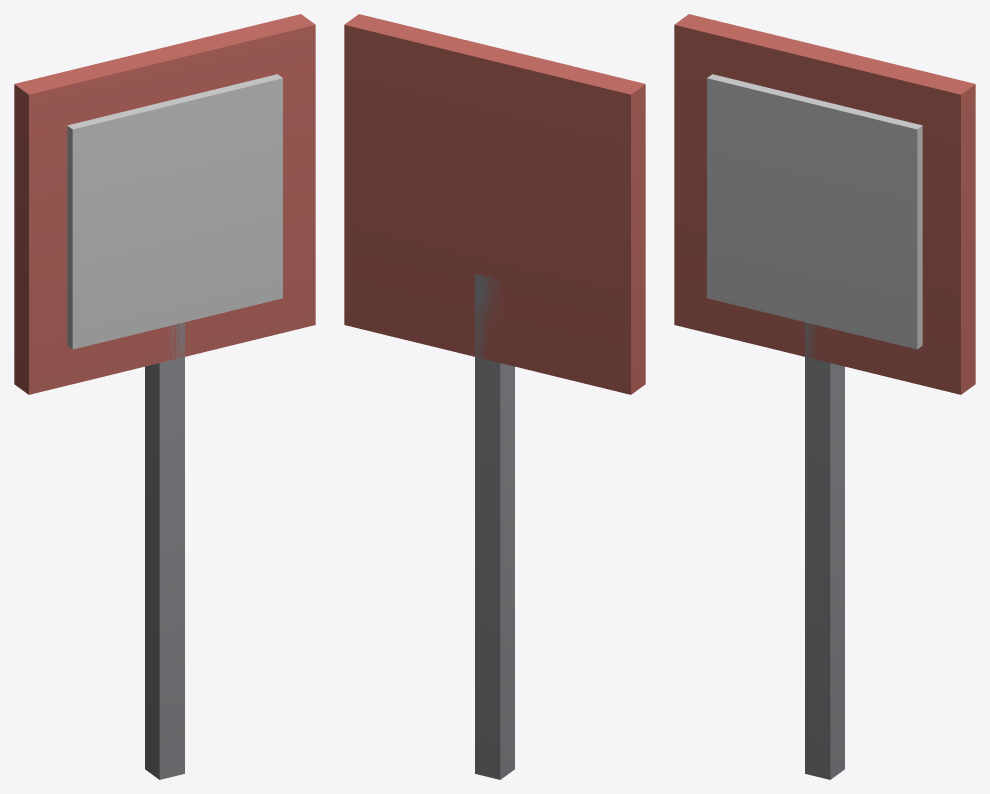
File: sign.glb
3 renders of one model, left to right at view 1: azimuth 30°, elevation 25°; view 2: azimuth 150°, elevation 25°; view 3: azimuth 330°, elevation 25°, orthographic.
Visible parts, largest first — view 1: root; view 2: root; view 3: root.
Boxes of the visible parts, x1=… form: root: x1=14, y1=14, x2=315, y2=779; root: x1=344, y1=14, x2=645, y2=779; root: x1=674, y1=14, x2=975, y2=779.
Size of the model in its own units: 0.9 by 2.15 by 0.11.
